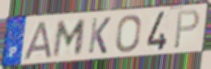4: (145, 10, 169, 53)
A: (22, 20, 54, 62)
K: (87, 16, 113, 55)
M: (51, 18, 88, 59)
O: (114, 14, 143, 54)
P: (172, 9, 201, 51)
